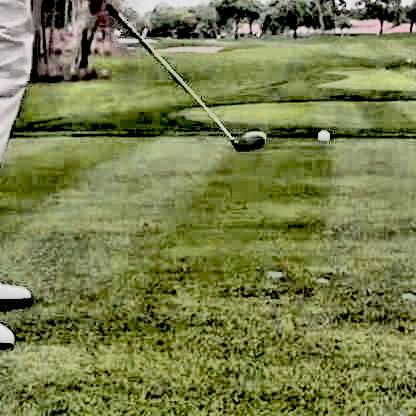golfball: (314, 127, 328, 142)
